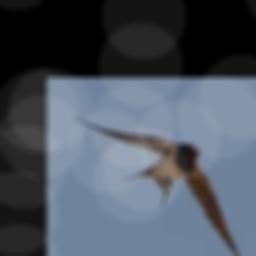Swallow: (72, 116, 254, 256)
